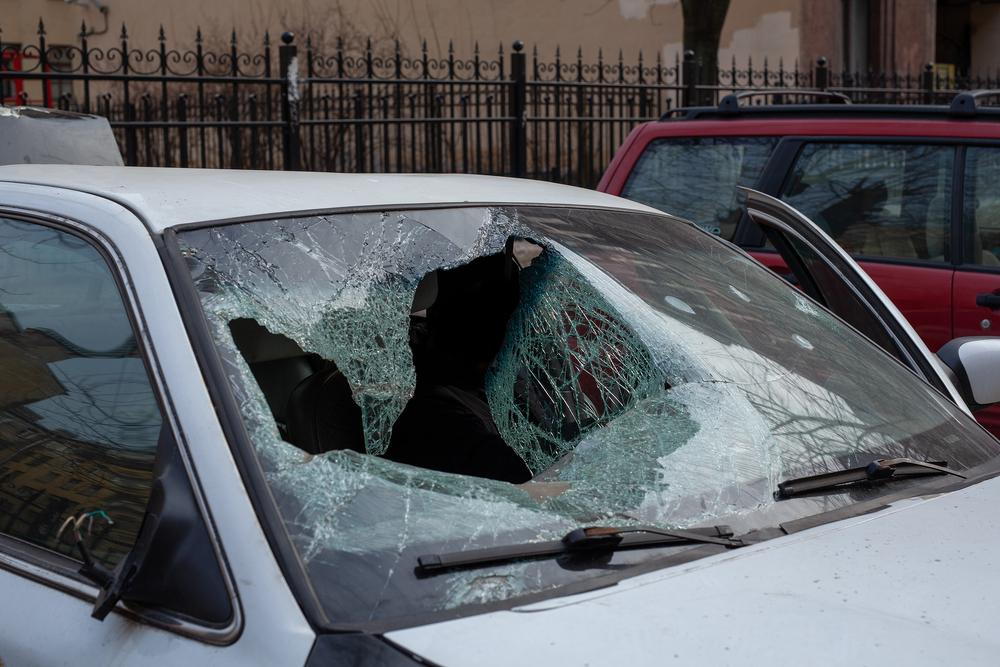glass shatter: (175, 206, 1000, 621)
